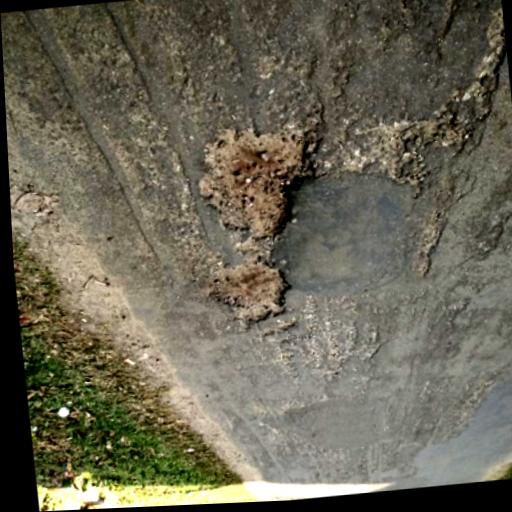pothole: (190, 121, 326, 250), (351, 110, 477, 189), (207, 259, 295, 334)
